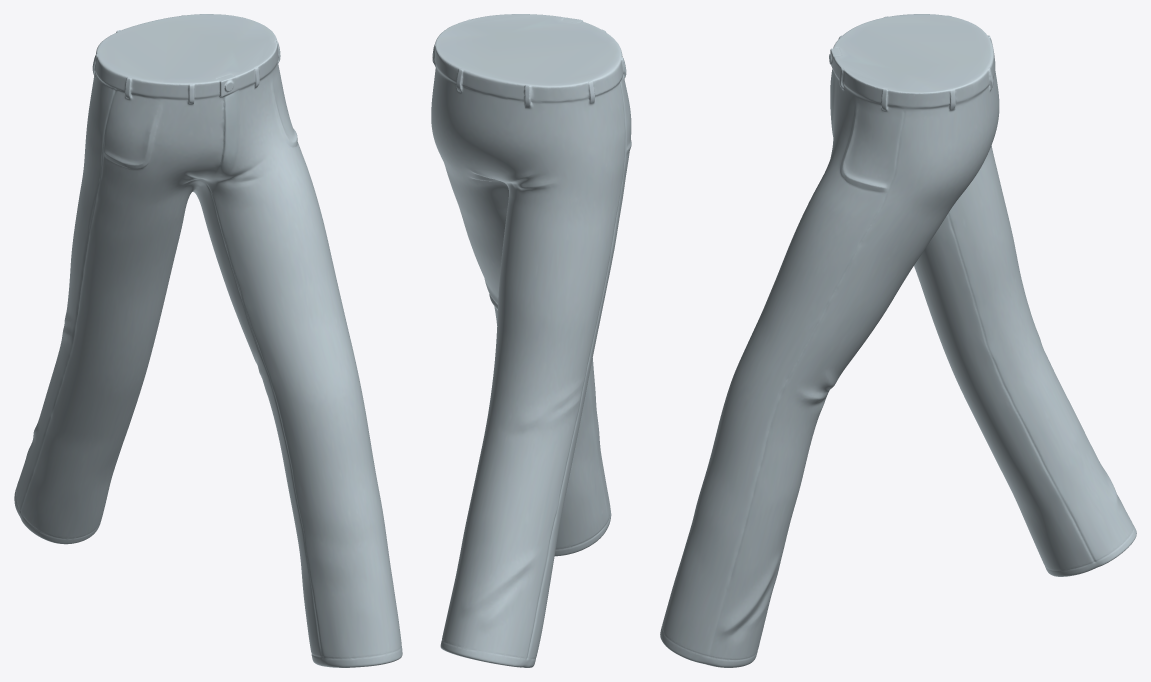
The model's file is Male_Pants_WhiteGray.glb.
3 views of the same model, side by side, from view 1: azimuth 30°, elevation 25°; view 2: azimuth 150°, elevation 25°; view 3: azimuth 270°, elevation 25° (orthographic). The views are drawn at different scales.
Visible parts, largest first — view 1: IVB PANTS WHITEGRAY 01; view 2: IVB PANTS WHITEGRAY 01; view 3: IVB PANTS WHITEGRAY 01.
Part boxes in pixels (x1,y1,x2,y2): IVB PANTS WHITEGRAY 01: (14, 14, 402, 667); IVB PANTS WHITEGRAY 01: (431, 14, 631, 667); IVB PANTS WHITEGRAY 01: (660, 14, 1136, 667).
Bounding box in the file's own units: 0.5664 × 1.56 × 1.18.
1 material, 1 textured.
